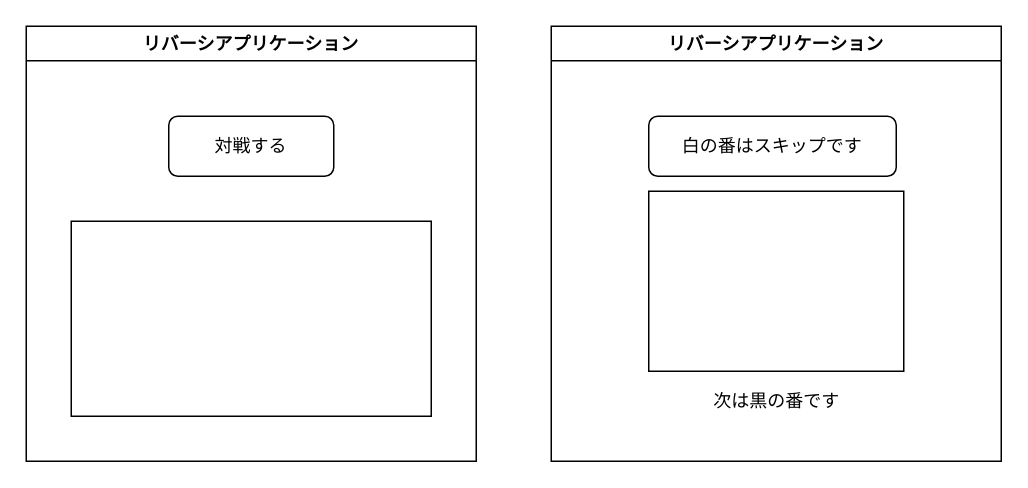
The diagram is 1028 pixels wide and 488 high, and some of its shapes have lost their labels. Each missing label, with the centre of its shape:
"盤面" goes at point 775,280.
"過去の対戦結果" goes at point 250,318.
